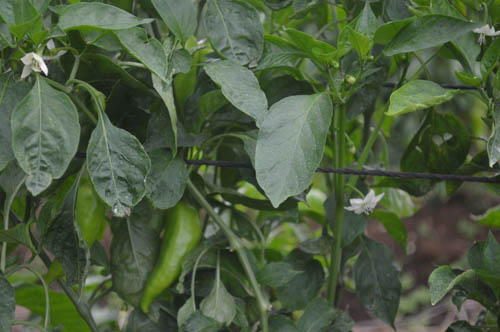ChiliPepper: (139, 204, 206, 316)
